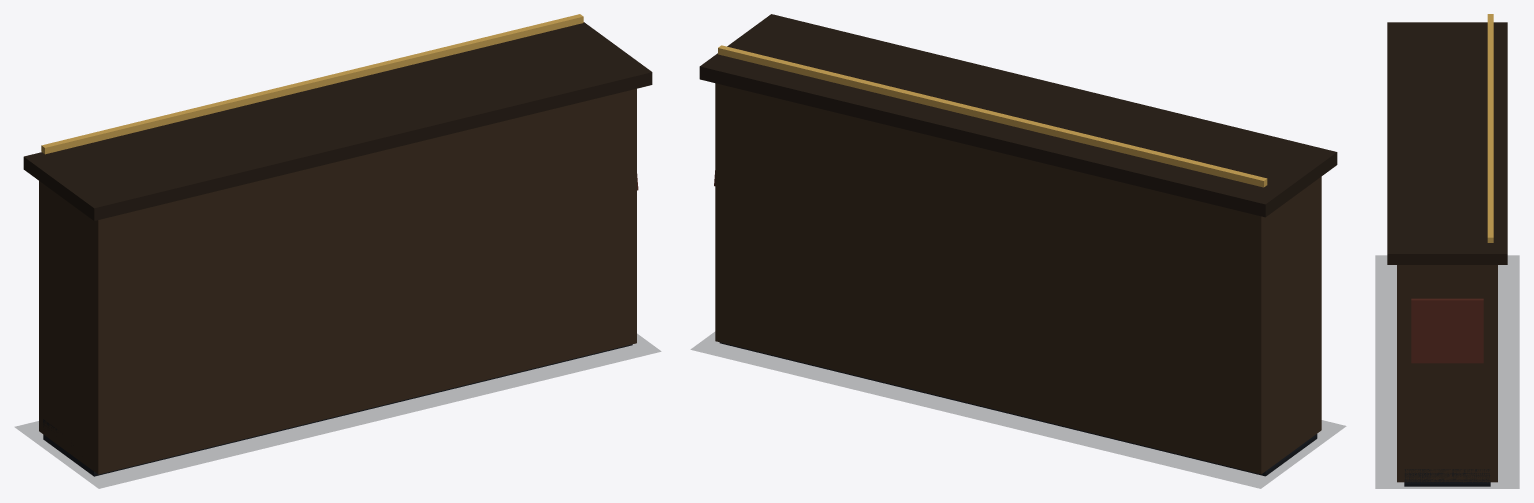
The model's file is hp_room_desire_low_bookcase.glb.
3 views of the same model, side by side, from view 1: azimuth 30°, elevation 25°; view 2: azimuth 150°, elevation 25°; view 3: azimuth 270°, elevation 25° (orthographic). The views are drawn at different scales.
Parts seen in each view (by area): view 1: carcass, top_slab, contact_shadow, brass_rail, kick; view 2: carcass, top_slab, contact_shadow, brass_rail, kick; view 3: top_slab, carcass, contact_shadow, books_5, brass_rail, kick.
Part boxes in pixels (box(x1,y1,x2,y2)): carcass: box(39, 88, 636, 474); top_slab: box(23, 22, 652, 220); contact_shadow: box(15, 334, 660, 488); brass_rail: box(41, 14, 583, 154); kick: box(43, 344, 632, 476); carcass: box(715, 83, 1321, 474); top_slab: box(699, 14, 1337, 217); contact_shadow: box(691, 332, 1345, 488); brass_rail: box(718, 45, 1267, 187); kick: box(719, 342, 1317, 476); top_slab: box(1387, 22, 1507, 264); carcass: box(1397, 265, 1497, 482); contact_shadow: box(1375, 255, 1519, 488); books_5: box(1411, 298, 1483, 363); brass_rail: box(1487, 14, 1493, 242); kick: box(1404, 469, 1490, 486).
Size of the model in its own units: 2.3 by 1.14 by 0.6.
